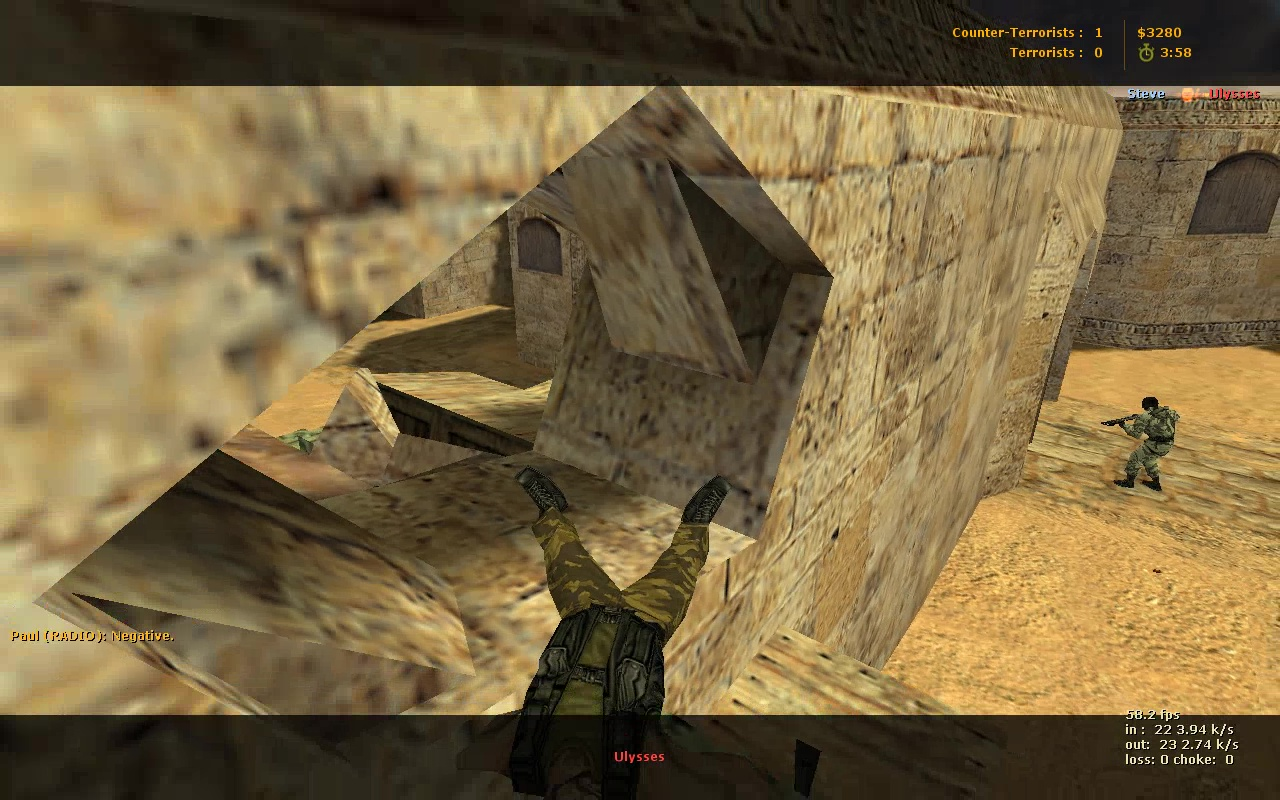dead: (510, 467, 728, 771)
terr2: (1117, 392, 1187, 502)
